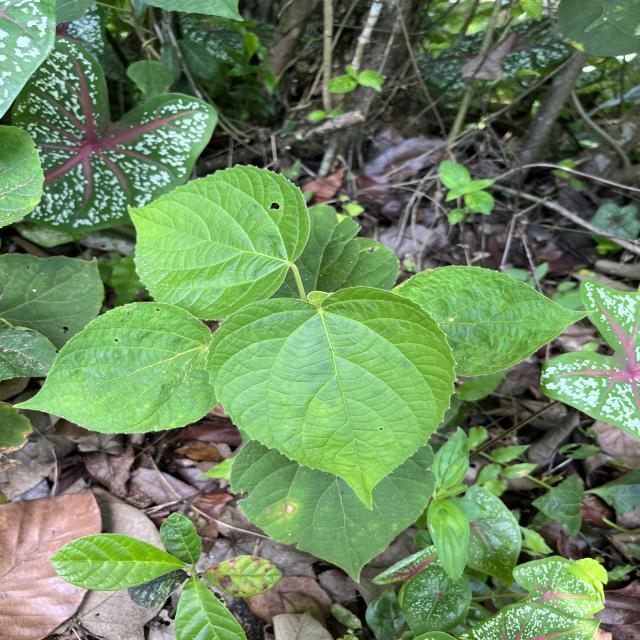Clerodendrum infortunatum: (205, 284, 460, 512), (234, 438, 438, 586), (126, 162, 312, 322), (12, 301, 218, 436), (392, 264, 598, 378)
